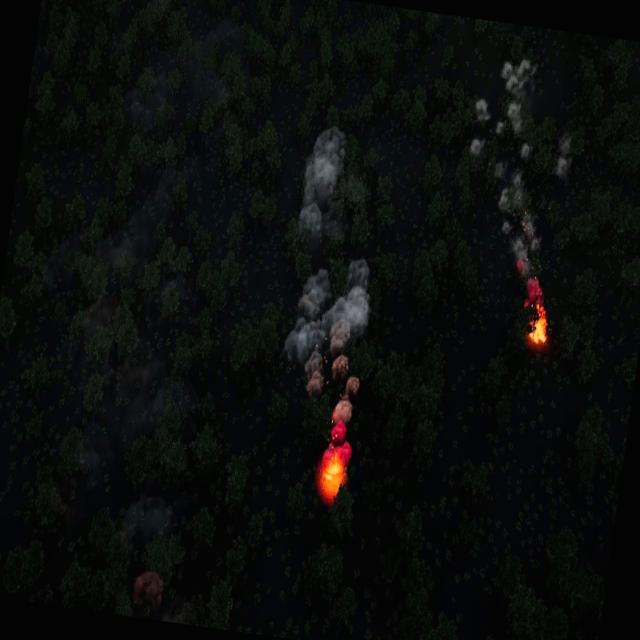fire: (317, 442, 351, 498), (131, 568, 166, 607), (526, 314, 550, 348)
smoke: (442, 53, 570, 308), (270, 250, 376, 430), (292, 126, 350, 251), (121, 350, 168, 434), (118, 492, 173, 552), (552, 131, 575, 181), (157, 608, 188, 624)
